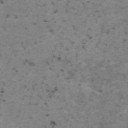oxide scale of temperature system: (12, 9, 110, 94), (99, 122, 108, 128), (118, 92, 124, 100), (50, 120, 56, 128), (0, 88, 4, 94), (6, 13, 10, 18)
